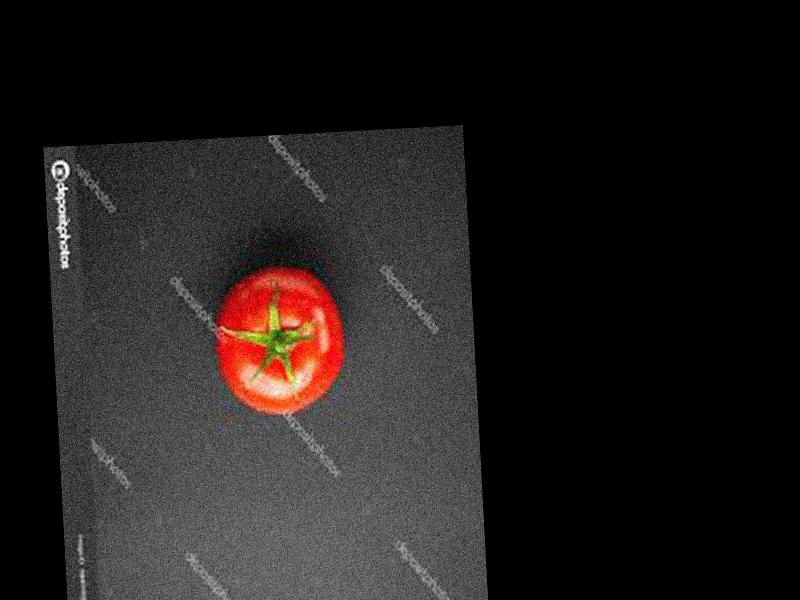Tomato: (211, 264, 348, 420)
